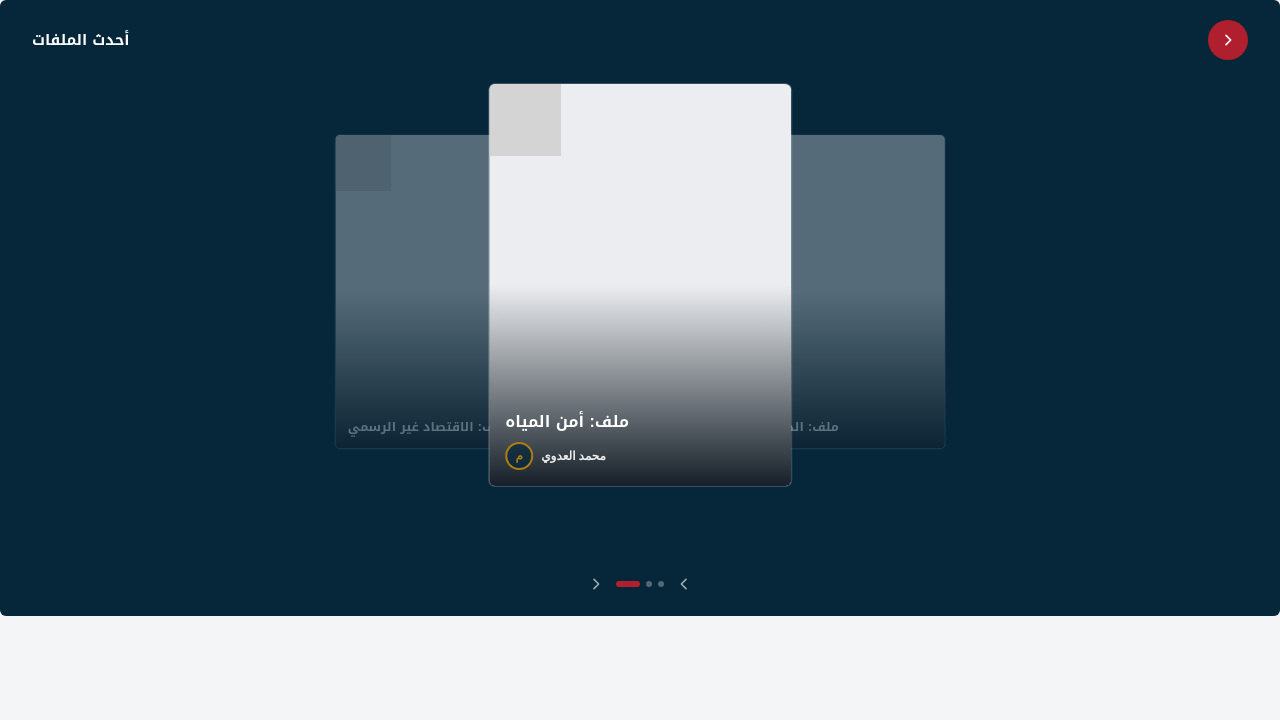
Test: SpecialShowcase › advances the stage with the arrow
What coordinates should you click on to do the following:
click the button named "الملف التالي"
I would click on:
 (684, 584)
Its box is [676, 576, 692, 592].
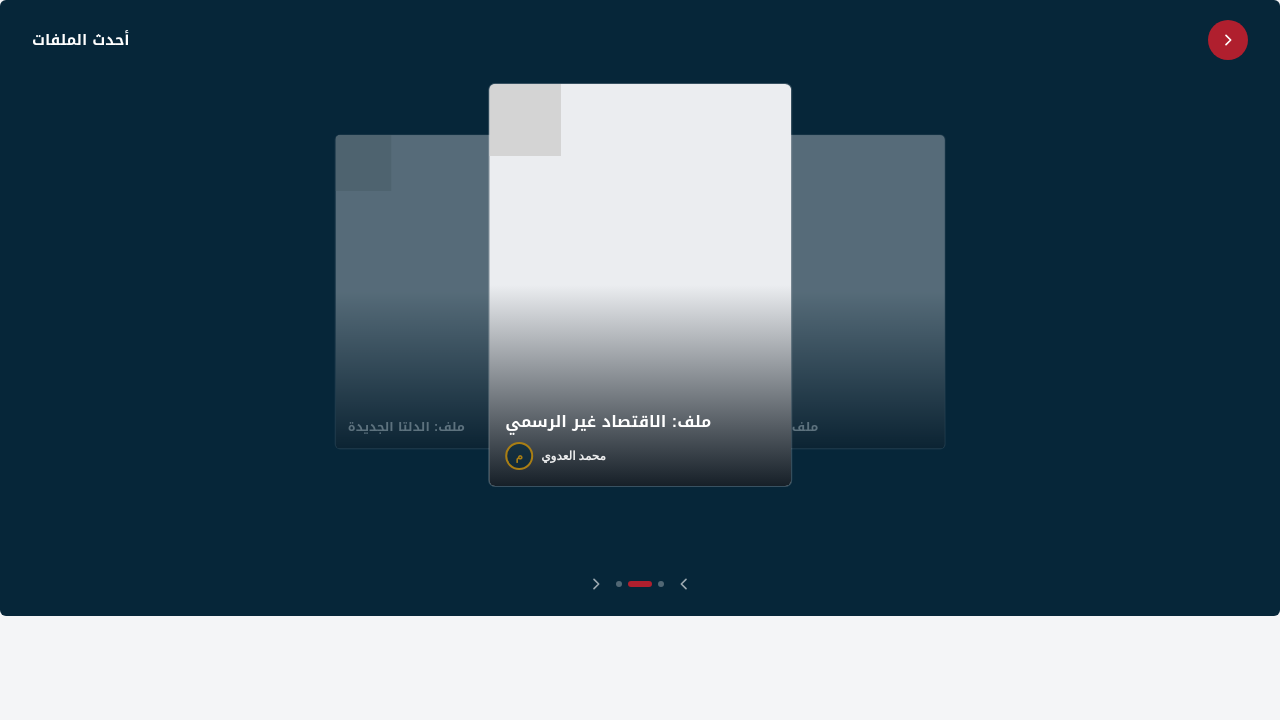
Result: the button "ملف: أمن المياه" is shown at [709, 135, 945, 449]
